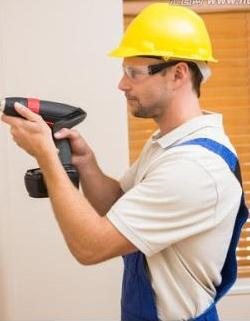hard-hat: (109, 1, 219, 62)
